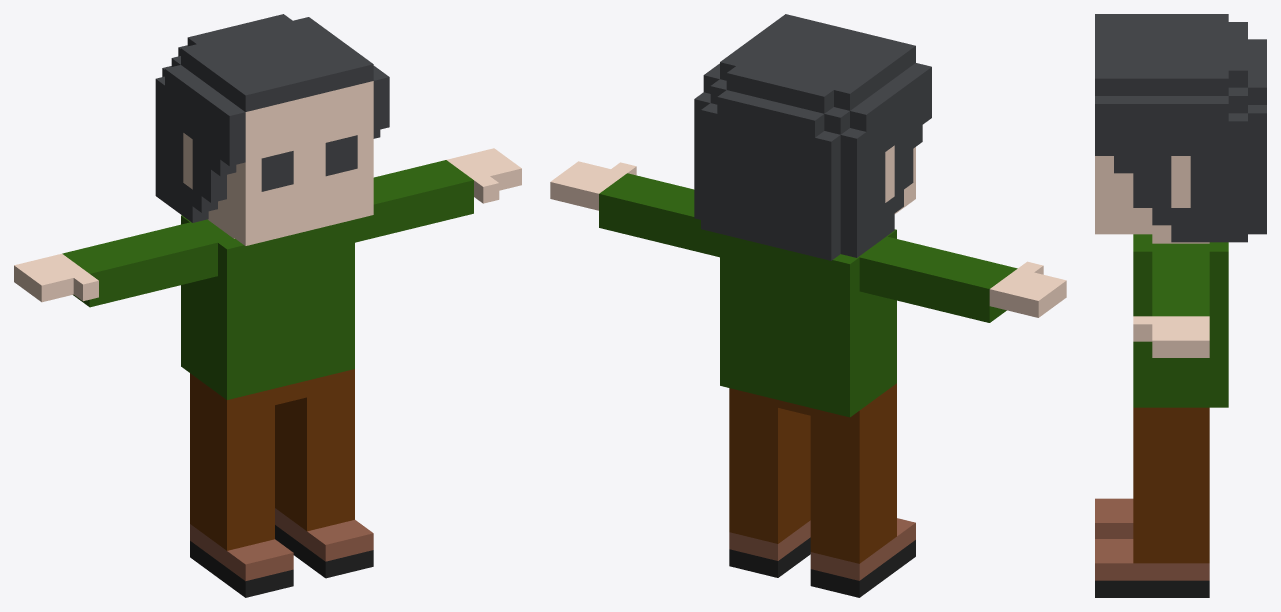
The model's file is student-9.obj.
3 renders of one model, left to right at view 1: azimuth 30°, elevation 25°; view 2: azimuth 150°, elevation 25°; view 3: azimuth 270°, elevation 25°, orthographic. The views are drawn at different scales.
Size of the model in its own units: 3 by 3 by 0.9.
1 material, 1 textured.
